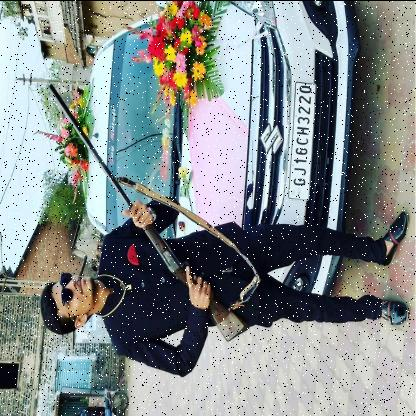rifle: (46, 78, 252, 343)
